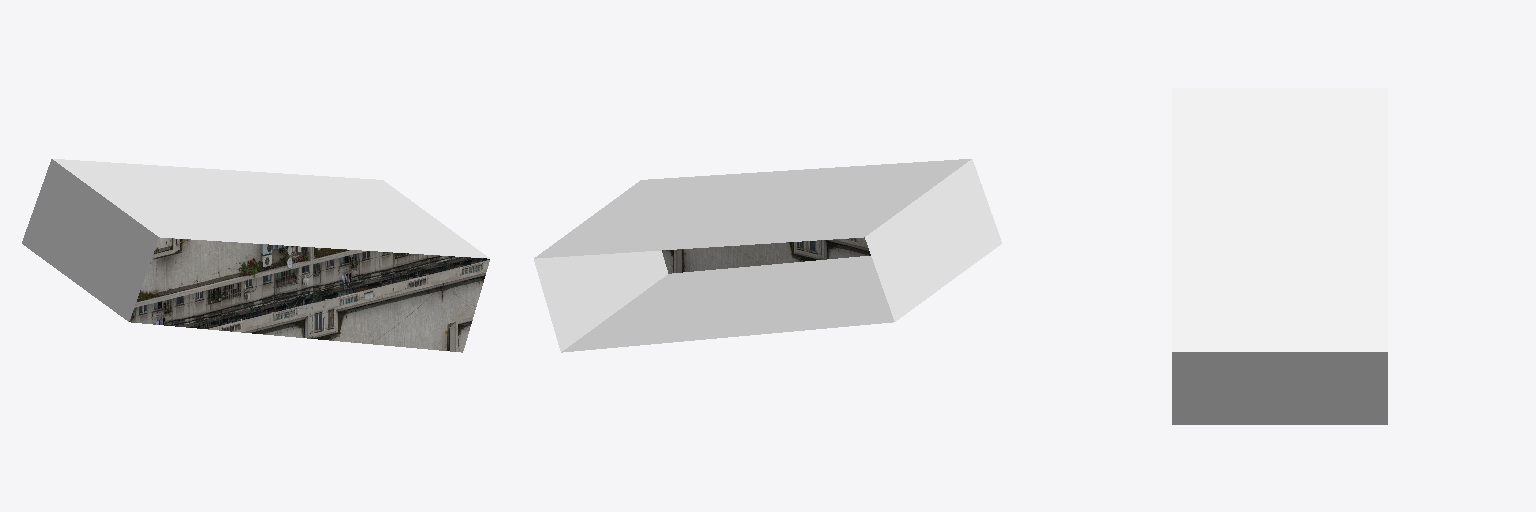
3 views of the same model, side by side, from view 1: azimuth 30°, elevation 25°; view 2: azimuth 150°, elevation 25°; view 3: azimuth 270°, elevation 25° (orthographic).
Parts seen in each view (by area): view 1: Building; view 2: Building; view 3: Building.
Boxes of the visible parts, box(x1,y1,x2,y2) form: Building: box(22, 159, 489, 352); Building: box(534, 159, 1001, 352); Building: box(1172, 88, 1387, 424).
Size of the model in its own units: 46.51 by 23.29 by 24.
2 materials, 1 textured.